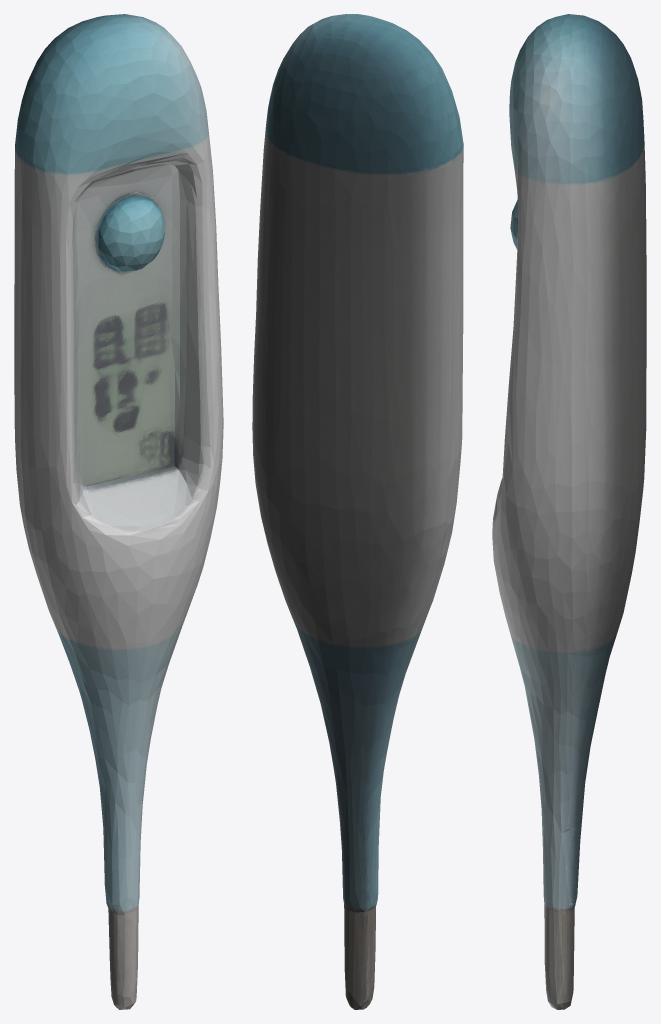
The model's file is thermometer_visual_0.obj.
3 renders of one model, left to right at view 1: azimuth 30°, elevation 25°; view 2: azimuth 150°, elevation 25°; view 3: azimuth 270°, elevation 25°, orthographic.
Size of the model in its own units: 0.2014 by 1 by 0.1427.
1 material, 1 textured.
